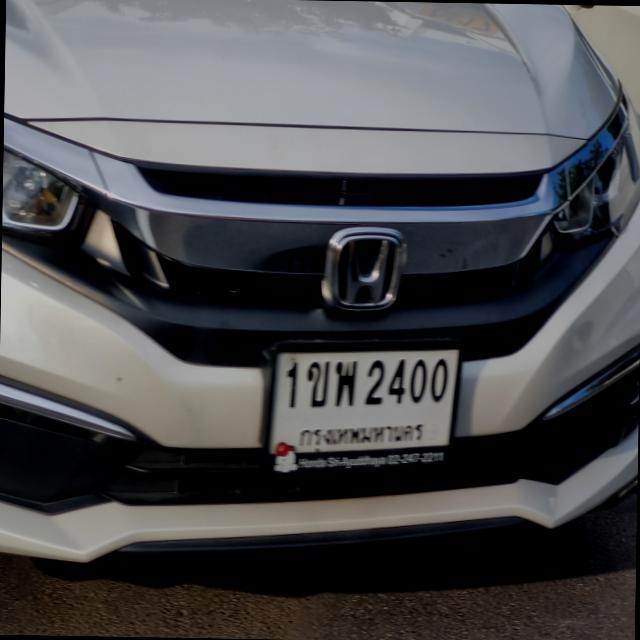license_plate: (261, 330, 464, 478)
